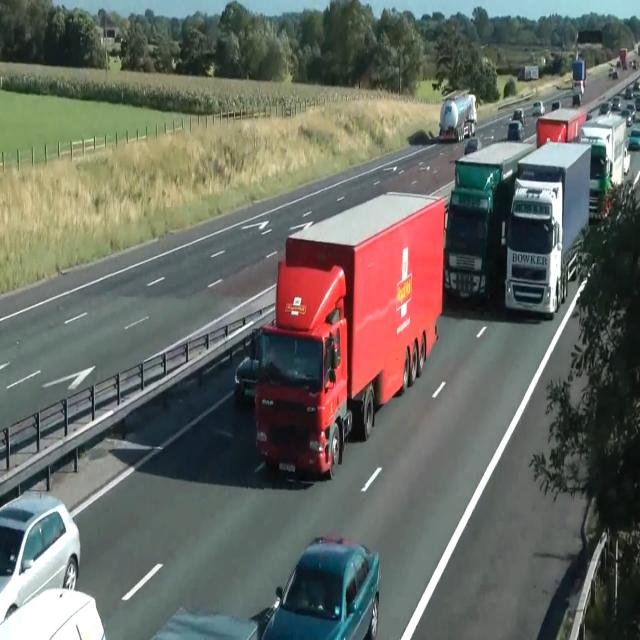bus: (0, 489, 80, 625), (0, 588, 106, 639), (234, 356, 259, 406), (507, 119, 523, 141), (464, 137, 482, 155), (627, 127, 639, 150), (598, 101, 612, 115), (532, 100, 544, 116), (513, 108, 525, 124), (610, 95, 621, 109), (625, 85, 633, 99), (608, 68, 618, 79), (552, 100, 560, 110), (630, 60, 636, 68)
car: (571, 29, 586, 105)
jeep: (251, 534, 381, 638)
minibus: (252, 189, 446, 480), (504, 141, 591, 319), (443, 139, 535, 305), (578, 113, 630, 220), (536, 106, 587, 148), (439, 89, 477, 142), (572, 59, 586, 95), (517, 64, 539, 81), (619, 47, 628, 69)
